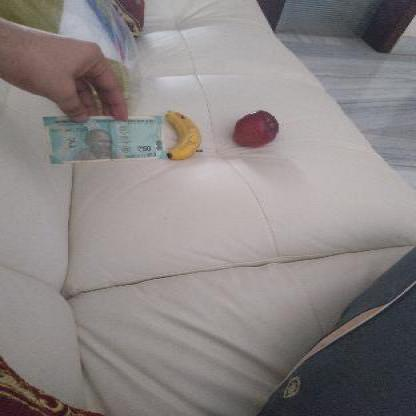New50Front: (44, 112, 171, 161)
